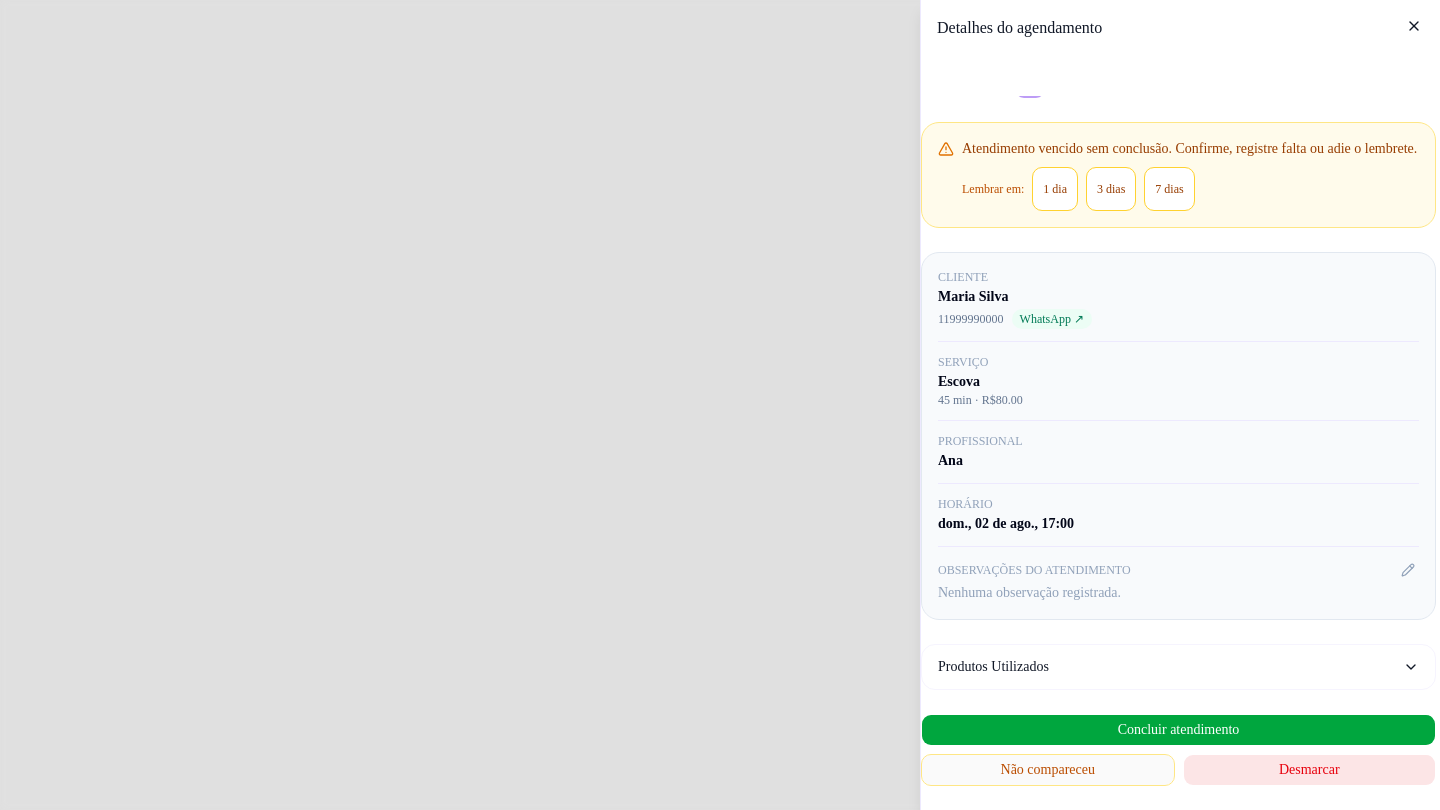
Test case: no-show no drawer › não registra nada só de clicar em "Não compareceu" — abre a confirmação
(page scrolled)
Click the button "Não compareceu" at (1048,770), box [921, 754, 1174, 786]
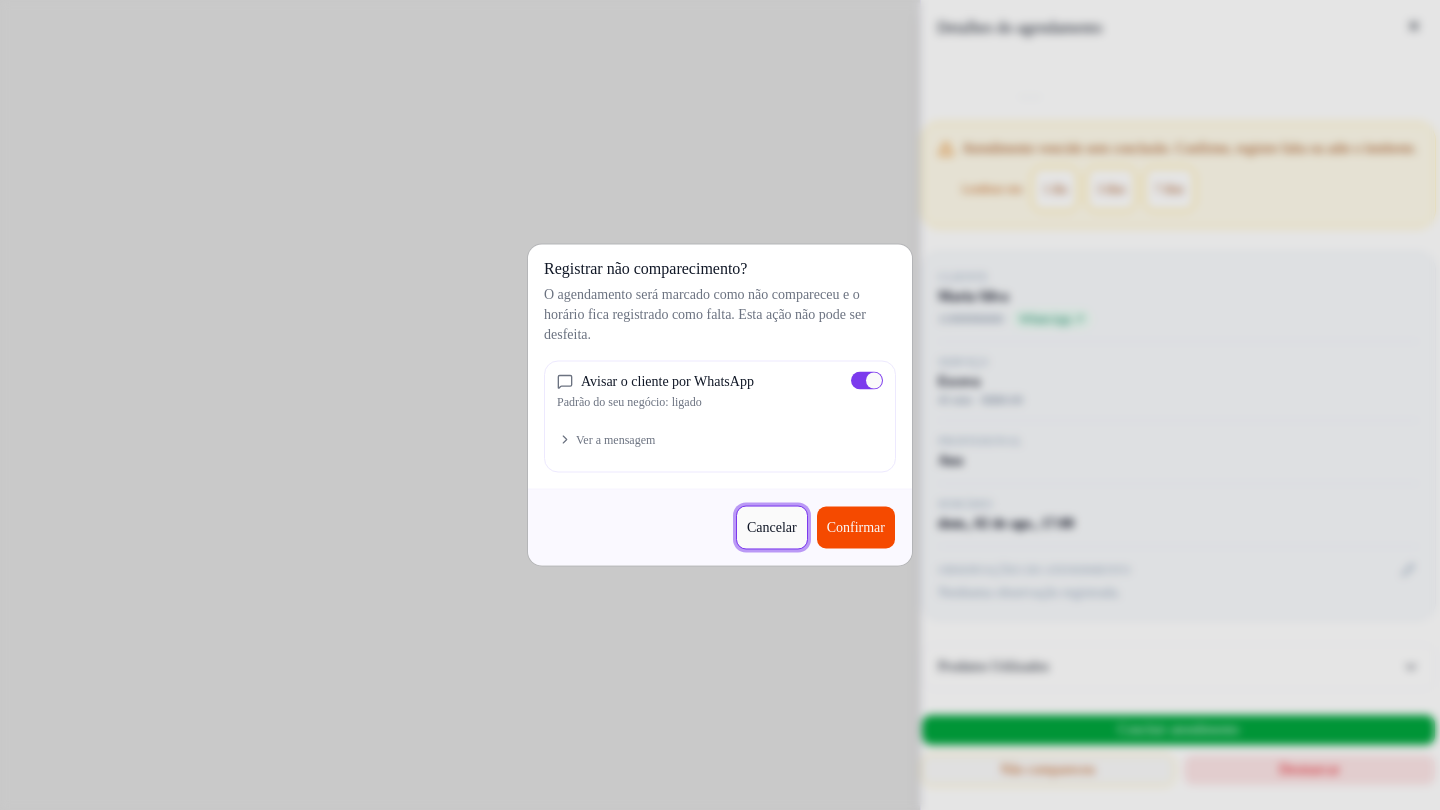
Check: the dialog that starts with "Registrar não comparecimento?" is shown, box [528, 244, 912, 566]
